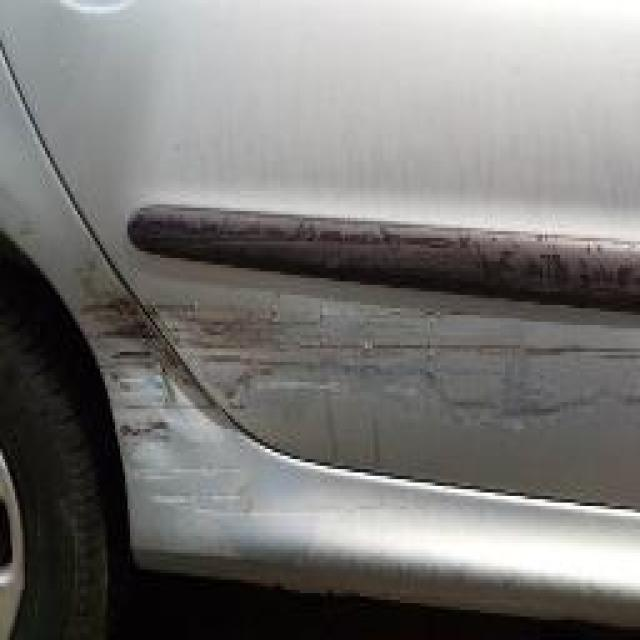Door: (38, 188, 640, 617)
